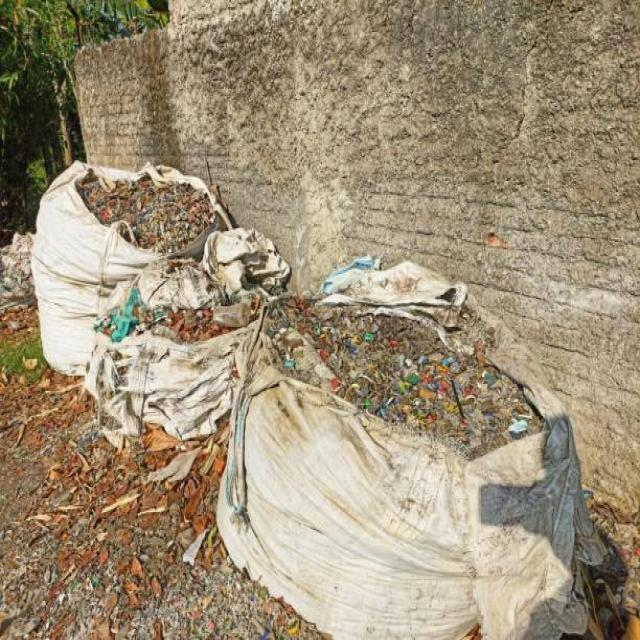trash: (245, 395, 499, 623), (42, 224, 220, 401)
